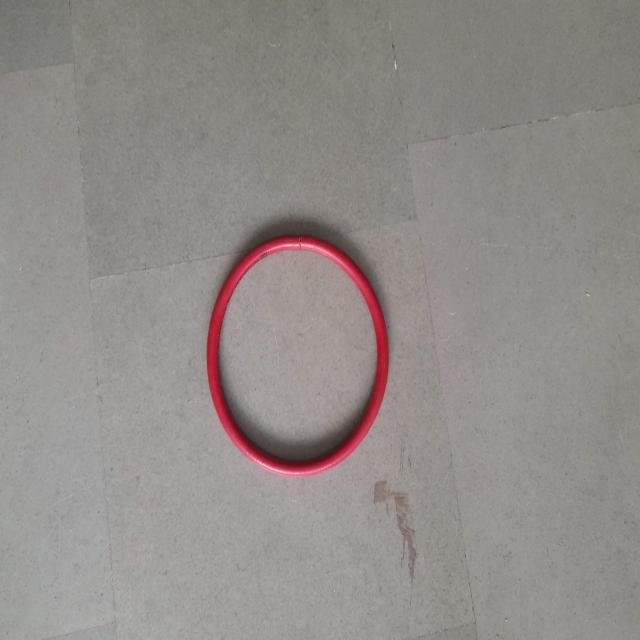daire: (210, 233, 390, 477)
